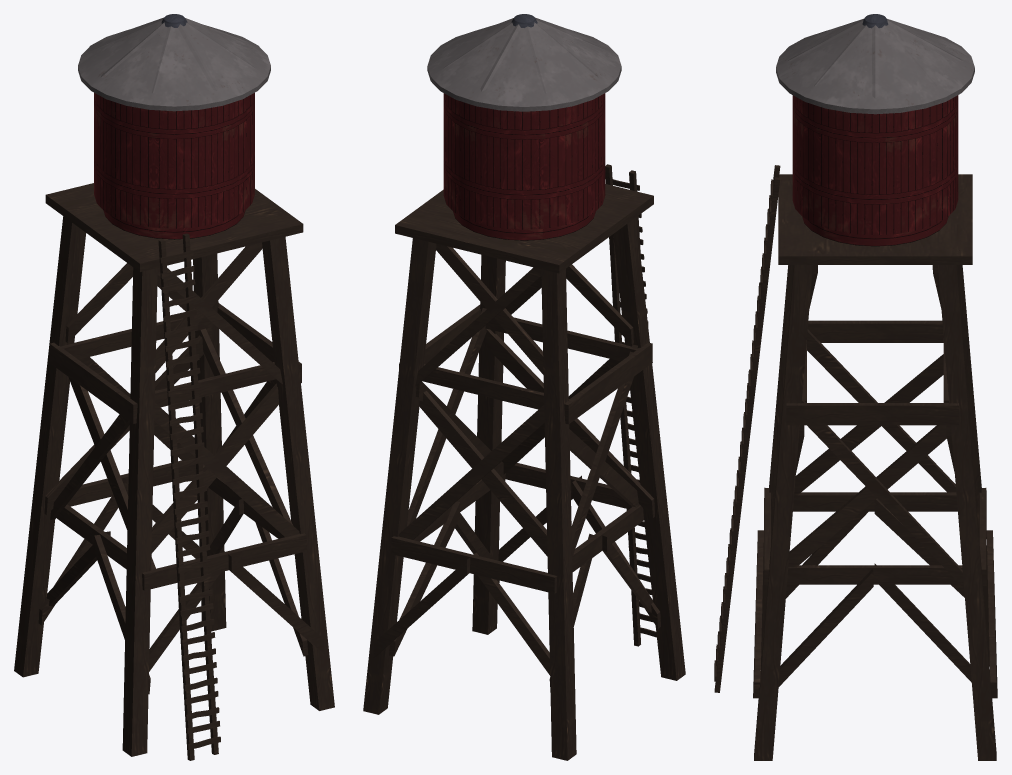
File: Water_Tower_01.fbx
3 renders of one model, left to right at view 1: azimuth 30°, elevation 25°; view 2: azimuth 150°, elevation 25°; view 3: azimuth 270°, elevation 25°, orthographic. The views are drawn at different scales.
Parts seen in each view (by area): view 1: Plane.041, Circle.003, Cube, Plane.040, Cube.005, Cube.004, Cube.008, Cube.002, Cube.007, Cube.009, Cube.001, Cube.006 (+1 smaller); view 2: Plane.041, Circle.003, Cube.005, Plane.040, Cube.004, Cube.008, Cube.002, Cube.007, Cube.001, Cube.009, Cube, Cube.006 (+1 smaller); view 3: Circle.003, Plane.041, Cube.004, Plane.040, Cube.006, Cube.003, Cube.009, Cube, Cube.007, Cube.002.
Boxes of the visible parts, x1,y1,x2,y2 form: Plane.041: (14,216,334,756); Circle.003: (78,14,270,239); Cube: (158,233,220,760); Plane.040: (45,183,303,271); Cube.005: (44,327,299,553); Cube.004: (50,328,292,569); Cube.008: (65,242,282,384); Cube.002: (67,460,306,590); Cube.007: (38,478,324,671); Cube.009: (46,499,308,694); Cube.001: (61,316,275,407); Cube.006: (49,303,301,423); Plane.041: (363,217,685,760); Circle.003: (427,14,621,240); Cube.005: (398,329,654,556); Plane.040: (395,184,653,273); Cube.004: (407,308,639,556); Cube.008: (415,243,633,386); Cube.002: (391,463,631,593); Cube.007: (373,475,660,674); Cube.001: (422,317,638,409); Cube.009: (389,501,652,692); Cube: (605,164,656,646); Cube.006: (399,304,652,424); Circle.003: (776,14,974,246); Plane.041: (754,265,996,760); Cube.004: (772,329,963,587); Plane.040: (778,174,972,264); Cube.006: (786,320,958,425); Cube.003: (787,492,962,584); Cube.009: (778,498,971,686); Cube: (714,165,780,692); Cube.007: (753,530,997,698); Cube.002: (764,487,986,585).
Bounding box in the file's own units: 511 × 1623 × 599.
